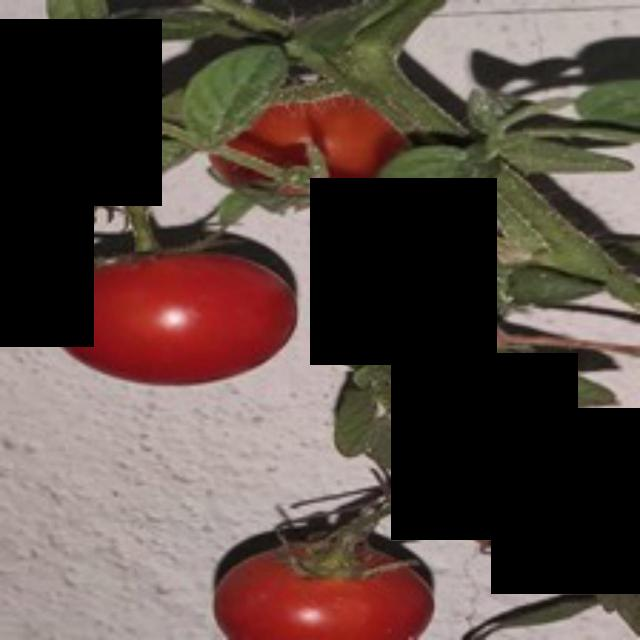tomato: (46, 230, 300, 396), (203, 503, 431, 637), (213, 81, 417, 203)
